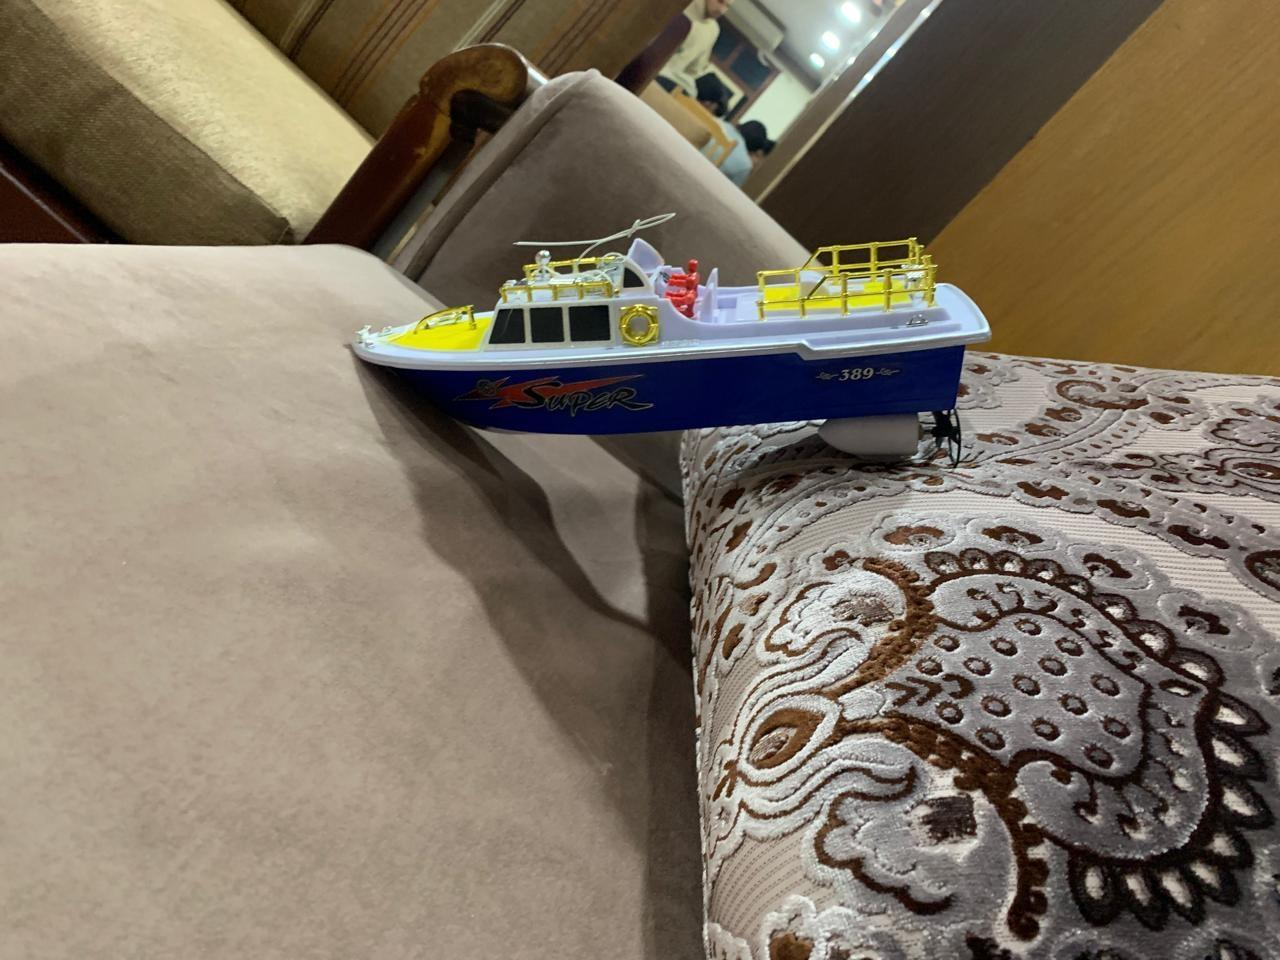Boat: (339, 205, 1001, 484)
